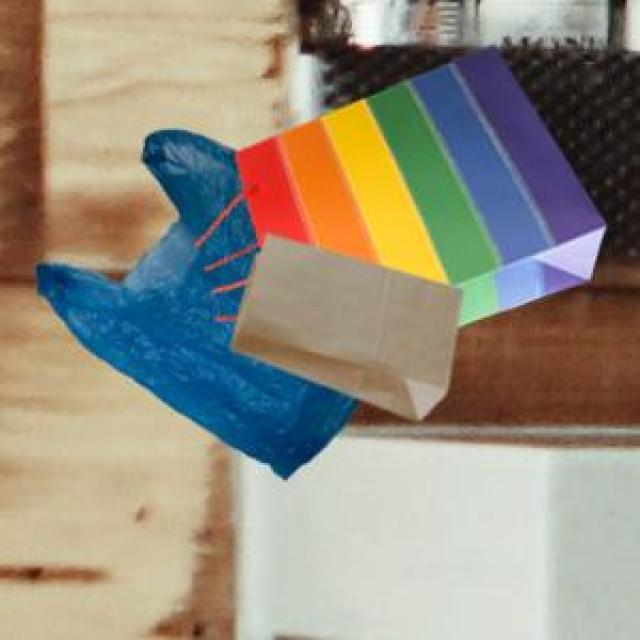paper: (213, 41, 602, 322), (226, 230, 459, 416)
